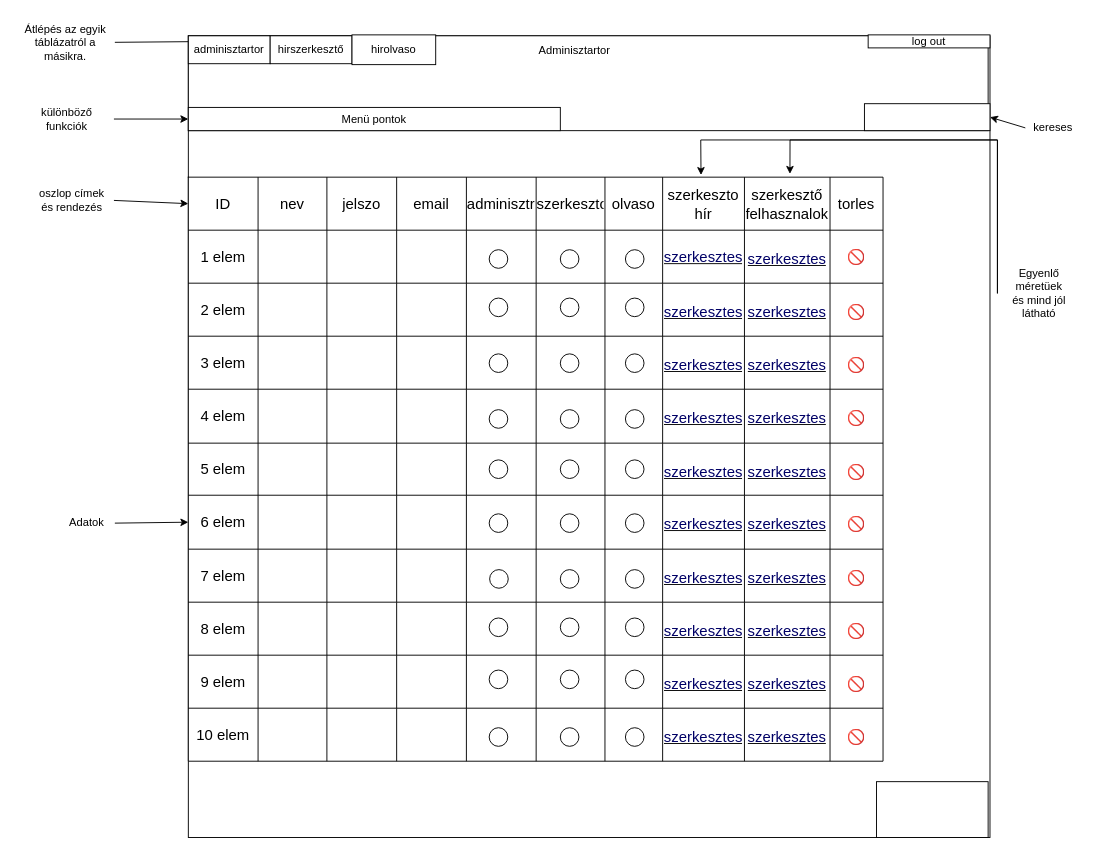
The diagram is 1096 pixels wide and 854 high, and some of its shapes have lost their labels. The centre of each missing label's shape, as x and y in pixels:
Search: pixel 927 117
Új felhasználó fölvétele: pixel 932 809
